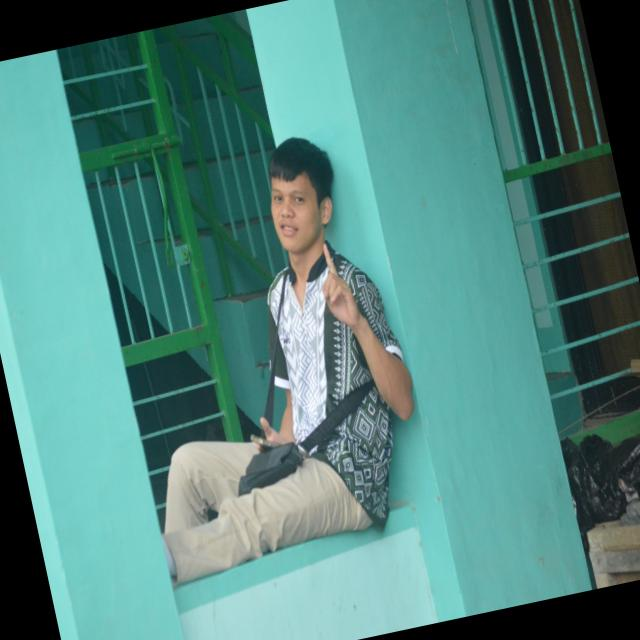person: (162, 138, 413, 582)
